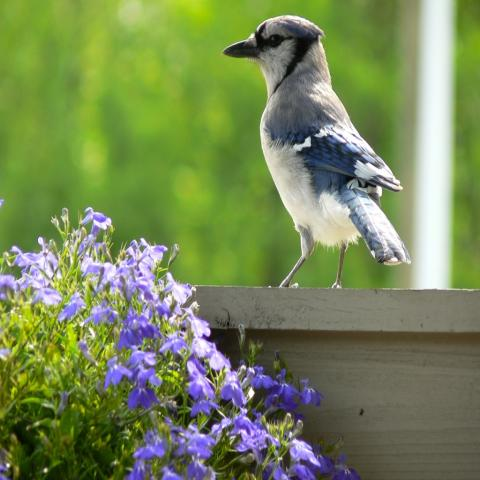bird: (219, 13, 412, 288)
